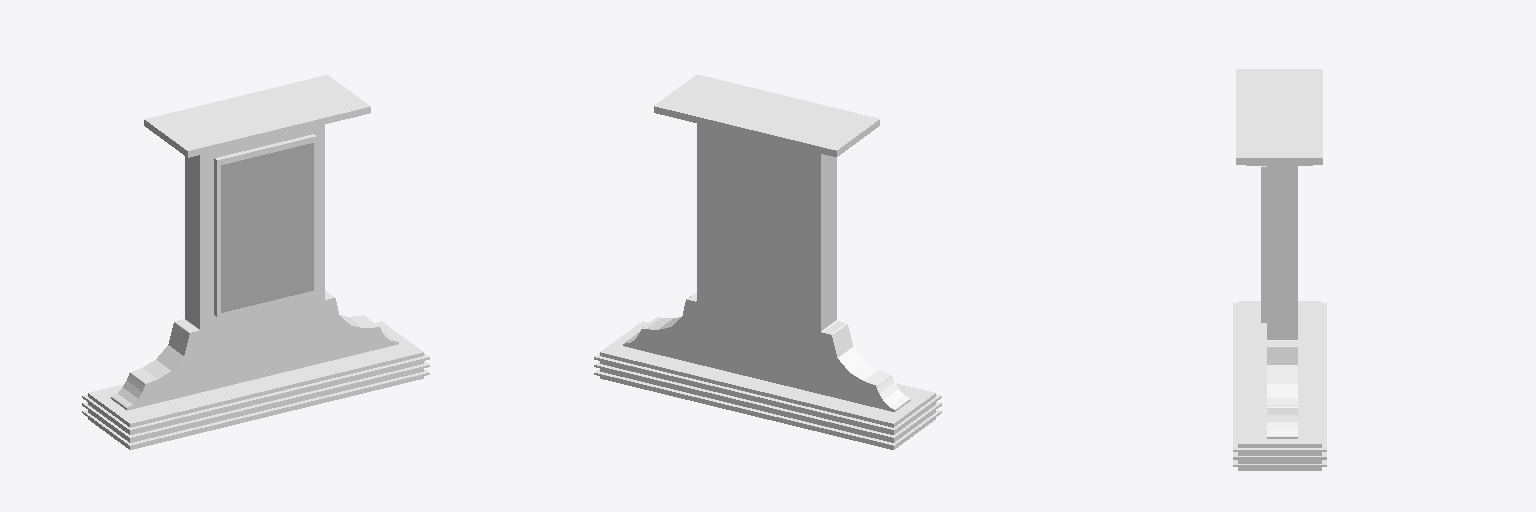
File: affiche2.obj
3 renders of one model, left to right at view 1: azimuth 30°, elevation 25°; view 2: azimuth 150°, elevation 25°; view 3: azimuth 270°, elevation 25°, orthographic.
Visible parts, largest first — view 1: Couvercle_1, affiche4, Cube, Cube.3, Peau, Cube.2, Cube.6, Cube.7, Cube.8; view 2: Couvercle_2, Cube, Cube.3, Peau, Cube.6, Cube.7, Cube.8; view 3: Cube.3, Peau, Cube, Cube.6, Cube.2.
Part boxes in pixels (left/top/right/bottom): Couvercle_1: left=127, top=125, right=398, bottom=410; affiche4: left=221, top=143, right=313, bottom=312; Cube: left=144, top=75, right=370, bottom=157; Cube.3: left=88, top=321, right=423, bottom=449; Peau: left=111, top=155, right=397, bottom=409; Cube.2: left=214, top=134, right=316, bottom=316; Cube.6: left=82, top=353, right=429, bottom=431; Cube.7: left=82, top=361, right=429, bottom=439; Cube.8: left=82, top=369, right=429, bottom=447; Couvercle_2: left=623, top=124, right=894, bottom=411; Cube: left=654, top=74, right=879, bottom=156; Cube.3: left=600, top=321, right=935, bottom=449; Peau: left=624, top=154, right=910, bottom=411; Cube.6: left=594, top=353, right=941, bottom=431; Cube.7: left=594, top=361, right=941, bottom=439; Cube.8: left=594, top=369, right=941, bottom=447; Cube.3: left=1238, top=301, right=1321, bottom=470; Peau: left=1267, top=166, right=1297, bottom=438; Cube: left=1236, top=69, right=1322, bottom=164; Cube.6: left=1233, top=303, right=1326, bottom=451; Cube.2: left=1261, top=166, right=1266, bottom=322.
Size of the model in its own units: 816 by 743 by 223.